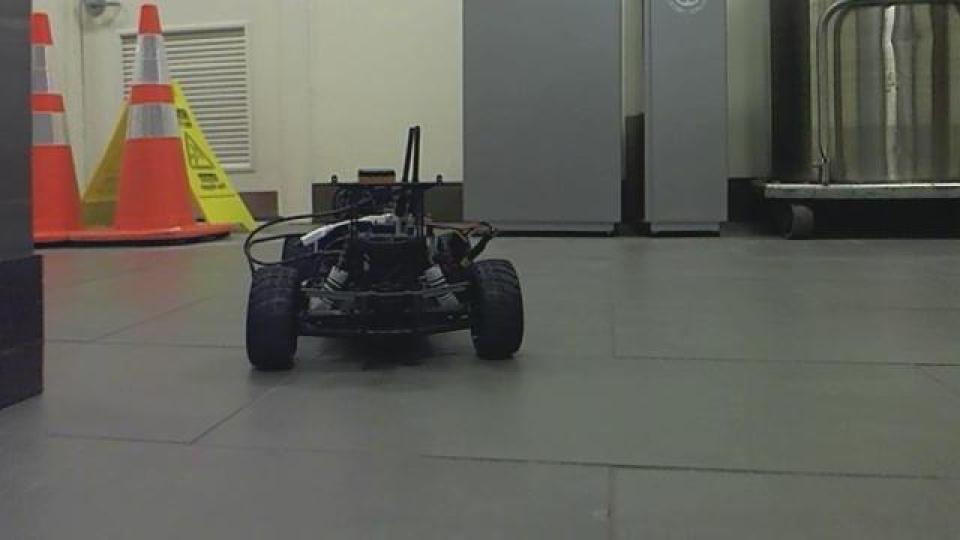car: (240, 125, 528, 374)
